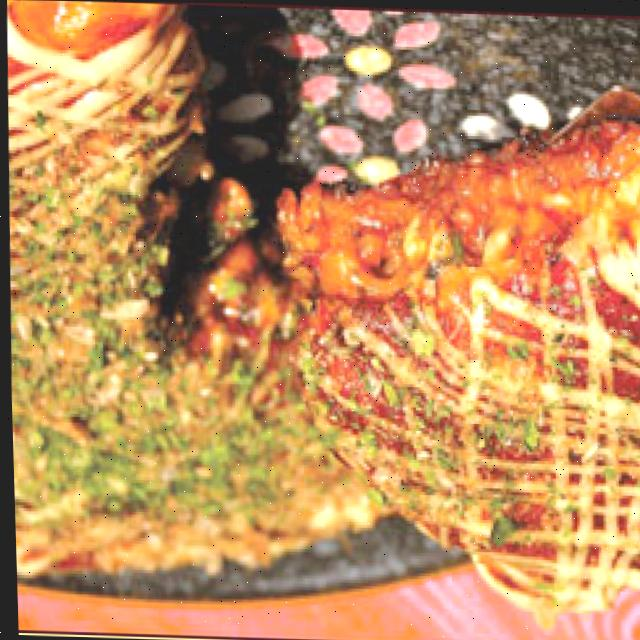蛋糕甜品: (4, 151, 640, 606)
